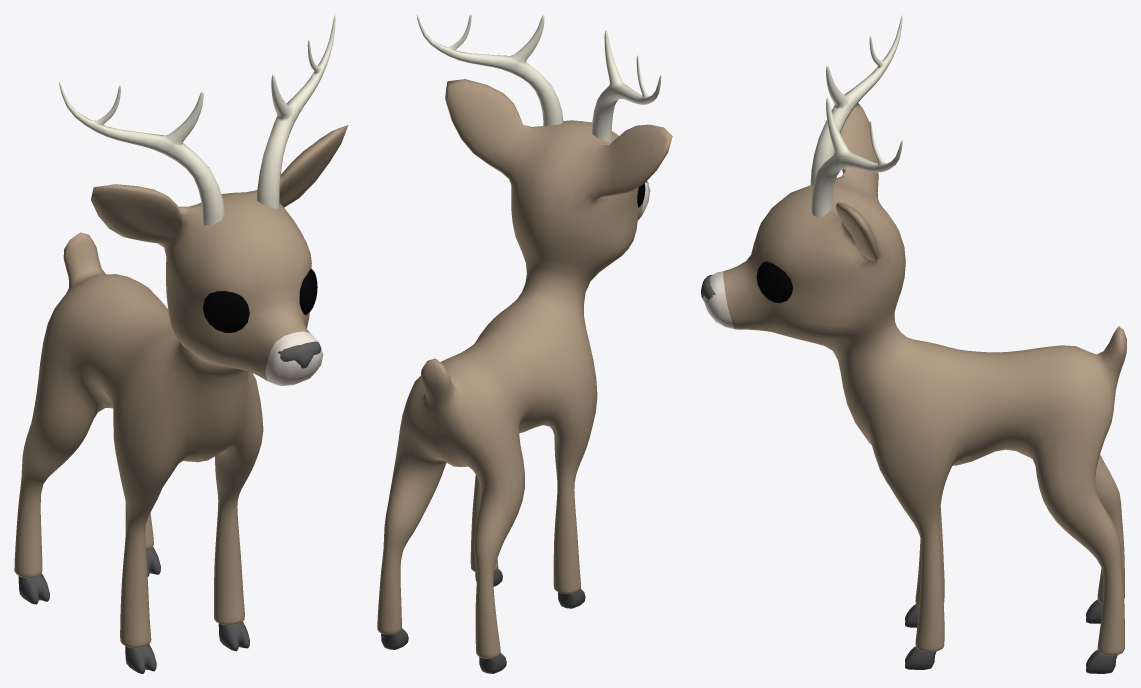
The model's file is deer.glb.
3 views of the same model, side by side, from view 1: azimuth 30°, elevation 25°; view 2: azimuth 150°, elevation 25°; view 3: azimuth 270°, elevation 25° (orthographic). The views are drawn at different scales.
Visible parts, largest first — view 1: bodymesh, horns, hoves, Reye, nose, Leye; view 2: bodymesh, horns, hoves; view 3: bodymesh, horns, hoves, Leye.
Boxes of the visible parts, x1,y1,x2,y2 form: bodymesh: (14, 125, 348, 648); horns: (59, 14, 335, 225); hoves: (18, 547, 249, 673); Reye: (203, 291, 249, 332); nose: (278, 341, 321, 368); Leye: (299, 268, 317, 315); bodymesh: (377, 79, 672, 658); horns: (416, 14, 661, 142); hoves: (381, 568, 585, 673); bodymesh: (703, 103, 1126, 655); horns: (810, 15, 902, 218); hoves: (905, 599, 1117, 673); Leye: (756, 261, 792, 302).
Bounding box in the file's own units: 0.0446 × 0.095 × 0.0643.
